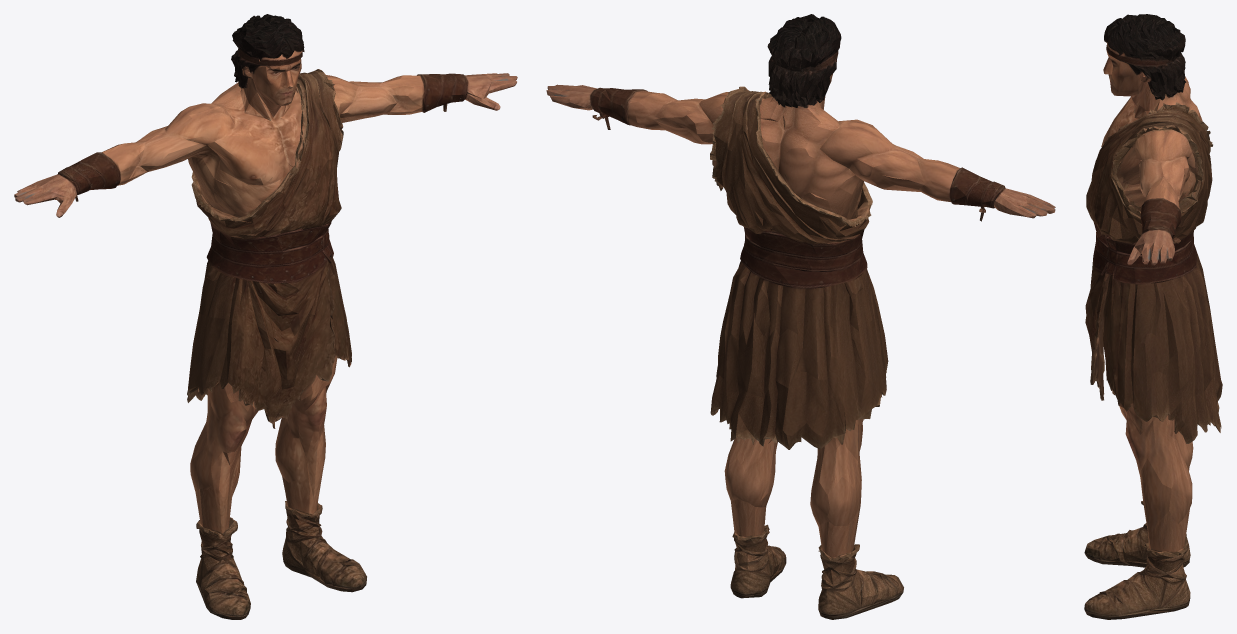
File: nephi-remeshed-10k.glb
3 renders of one model, left to right at view 1: azimuth 30°, elevation 25°; view 2: azimuth 150°, elevation 25°; view 3: azimuth 270°, elevation 25°, orthographic.
Visible parts, largest first — view 1: output_unwrapped; view 2: output_unwrapped; view 3: output_unwrapped.
Part boxes in pixels (x1,y1,x2,y2): output_unwrapped: (14, 14, 517, 619); output_unwrapped: (546, 14, 1055, 619); output_unwrapped: (1084, 14, 1222, 619).
Size of the model in its own units: 1.76 by 1.9 by 0.42.
Materials: 1 (1 with a texture image).
